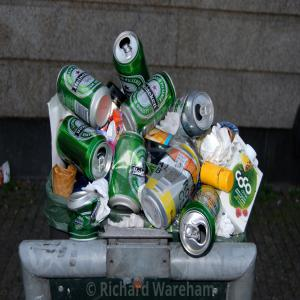Can: (142, 143, 203, 234), (121, 69, 179, 137), (57, 116, 114, 183), (55, 65, 113, 129), (108, 132, 147, 216), (180, 186, 224, 259), (113, 31, 150, 93), (66, 191, 100, 243), (184, 91, 215, 138)
Trash: (224, 142, 266, 237), (201, 125, 233, 167)
